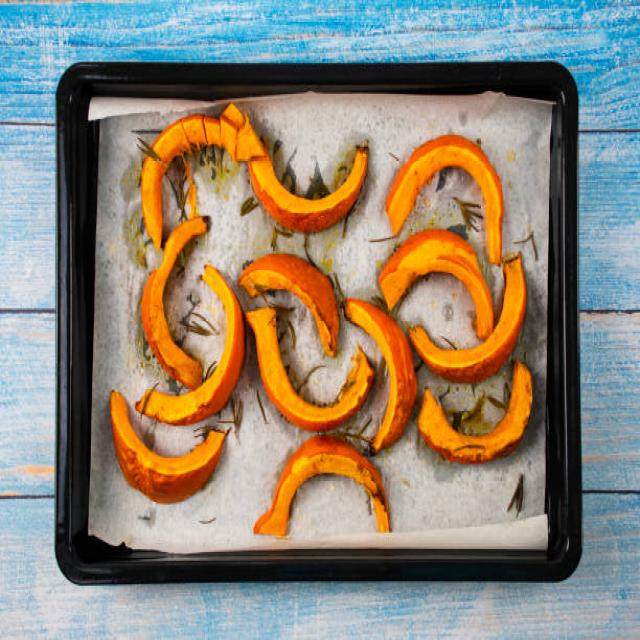pumpkin: (144, 103, 359, 242), (137, 269, 239, 425), (380, 235, 494, 338), (142, 220, 208, 385), (243, 252, 340, 360)
